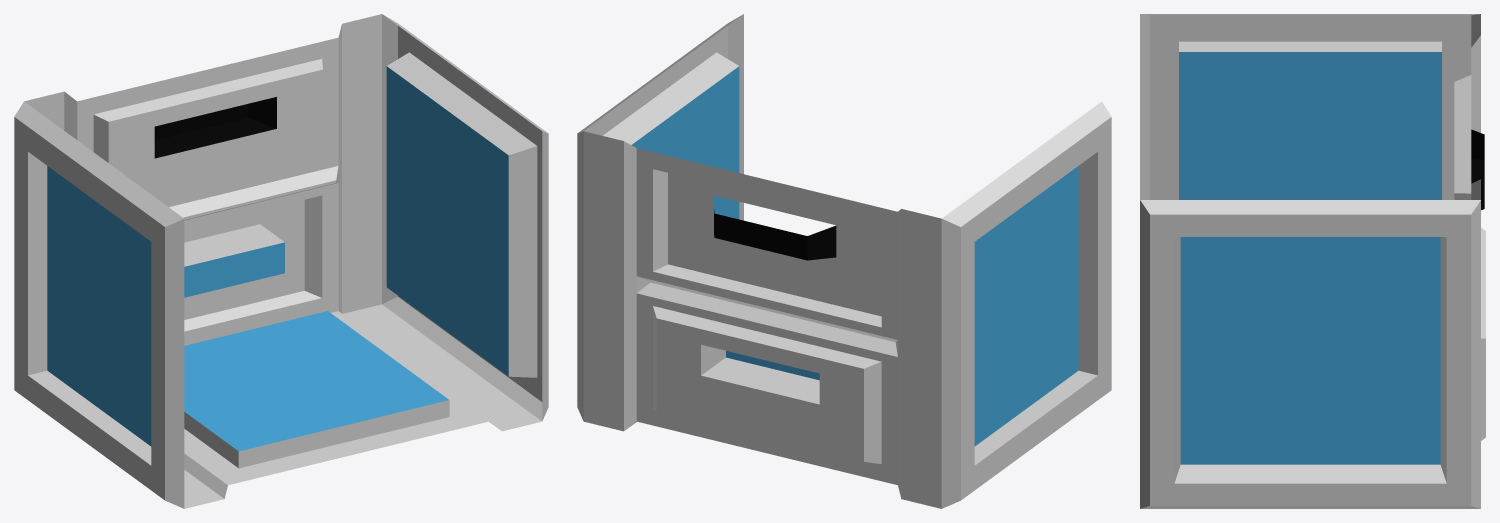
The model's file is SM_decor_drawer.fbx.
The picture shows the model from 3 angles, left to right: view 1: azimuth 30°, elevation 25°; view 2: azimuth 150°, elevation 25°; view 3: azimuth 270°, elevation 25°; orthographic projection. The views are drawn at different scales.
Visible parts, largest first — view 1: pCube1; view 2: pCube1; view 3: pCube1.
Boxes of the visible parts, box(x1,y1,x2,y2) form: pCube1: box(14, 14, 548, 508); pCube1: box(577, 14, 1111, 508); pCube1: box(1140, 14, 1485, 508).
Size of the model in its own units: 16.19 by 11.71 by 11.87.
